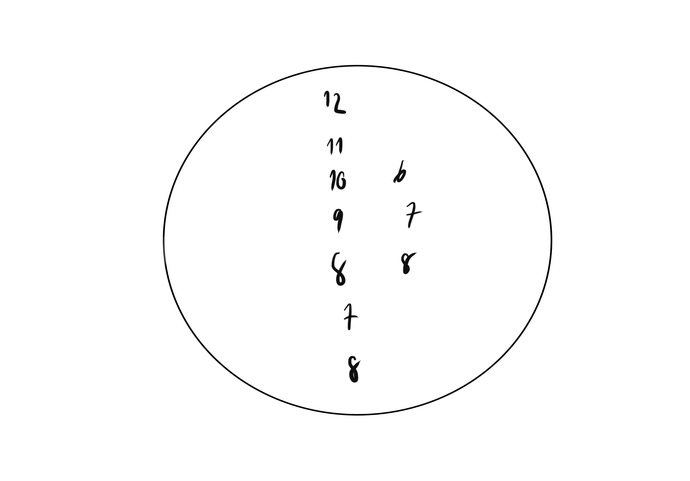eight: (329, 252, 351, 288), (344, 354, 366, 388), (398, 249, 419, 272)
eleven: (324, 134, 345, 157)
nine: (330, 208, 353, 234)
seven: (402, 196, 425, 234), (340, 298, 363, 335)
six: (387, 154, 416, 190)
ten: (326, 169, 352, 196)
twelve: (318, 84, 346, 112)
